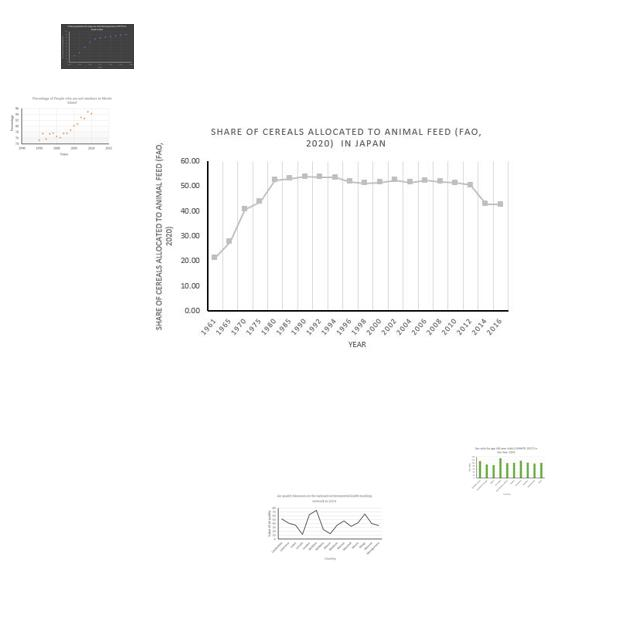Graph: (149, 121, 517, 351), (265, 492, 384, 563), (8, 95, 114, 157), (466, 445, 546, 497), (61, 24, 134, 69)
